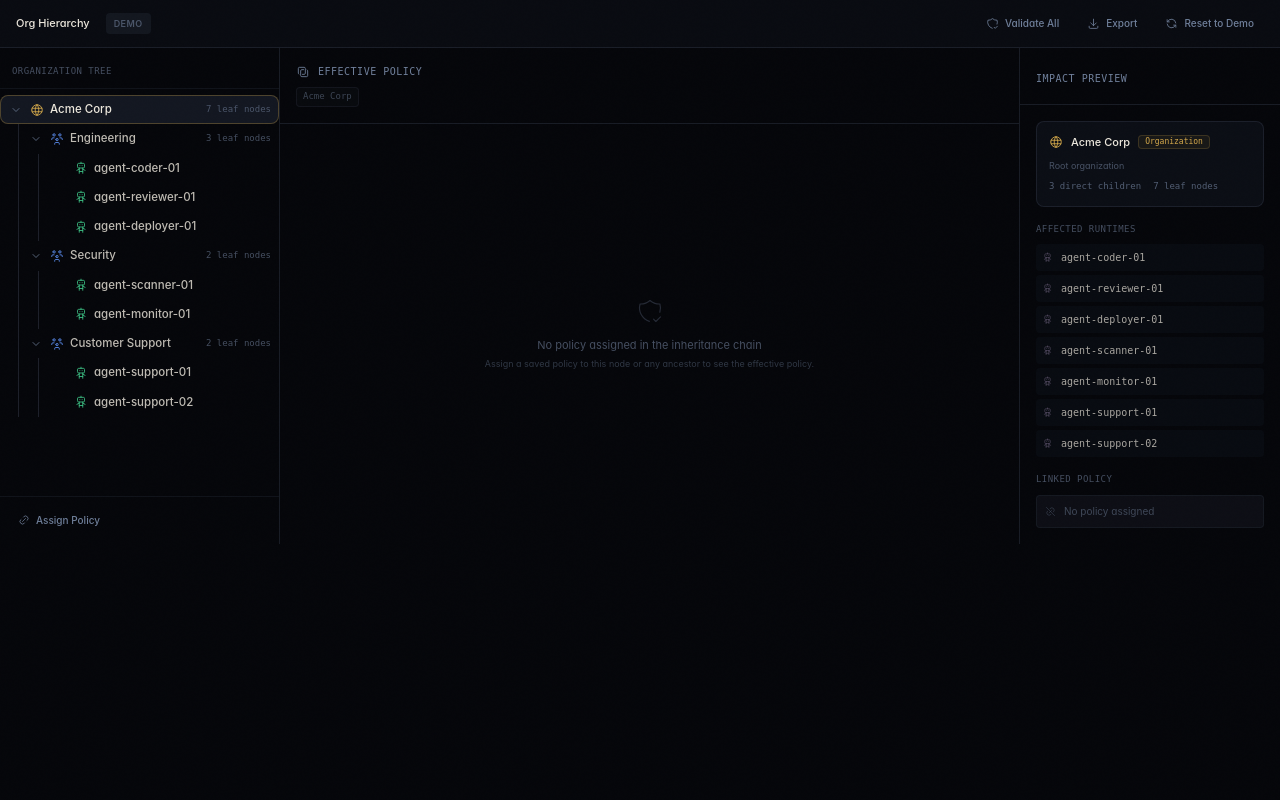
Test: HierarchyPage › reconstructs flat tree responses with child id lists without key warnings
Click the button "DEMO".
click(128, 24)  # box [106,13,151,34]
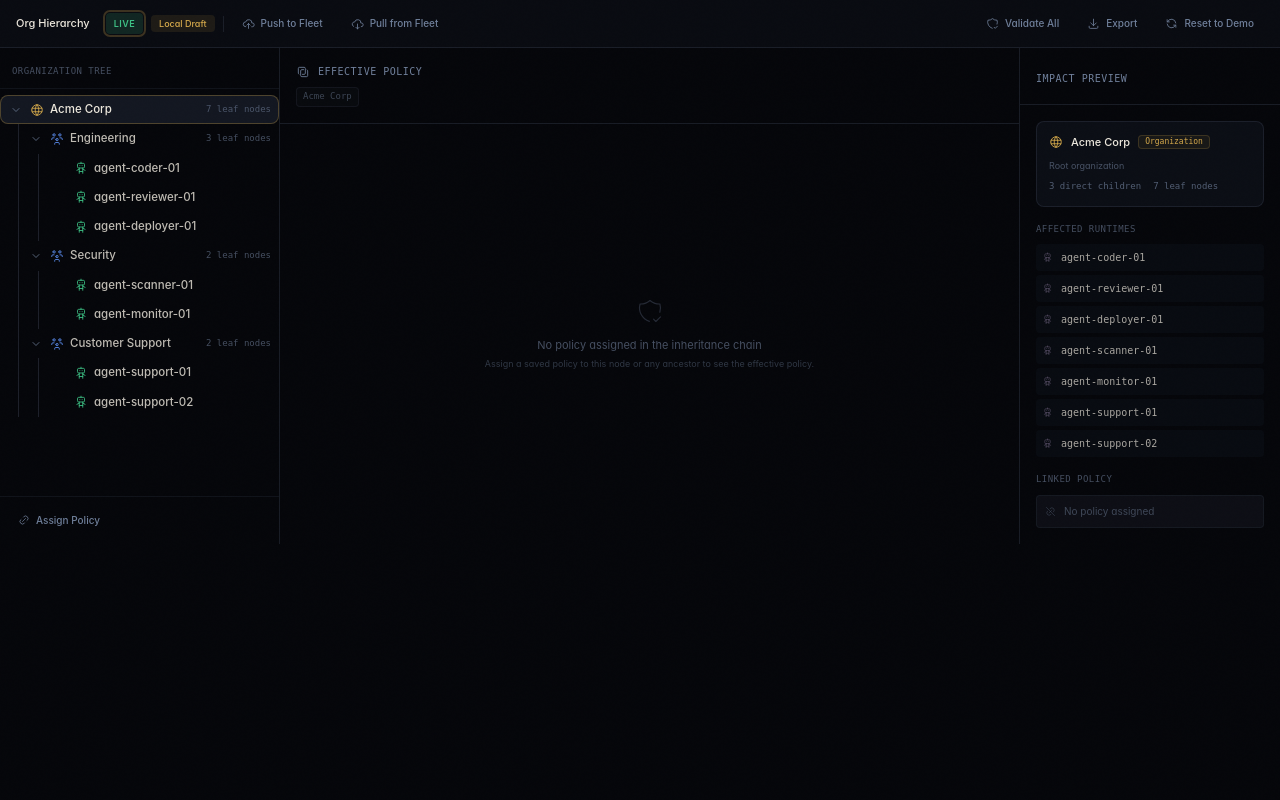
Click the button "Pull from Fleet".
click(394, 24)  # box [341,10,448,37]
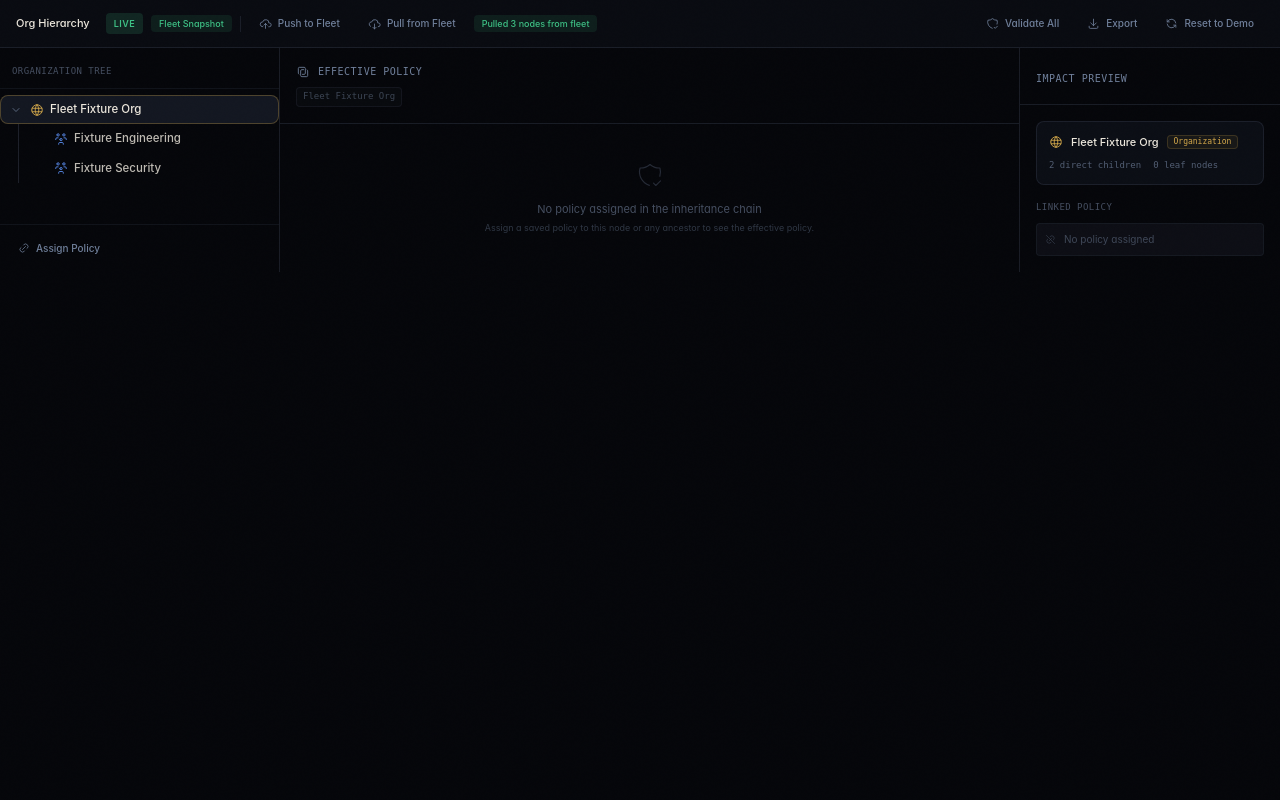
Now the text "Fleet Snapshot" is shown, box [151,15,232,32]
Now the text "2 direct children" is shown, box [1049,158,1141,172]
